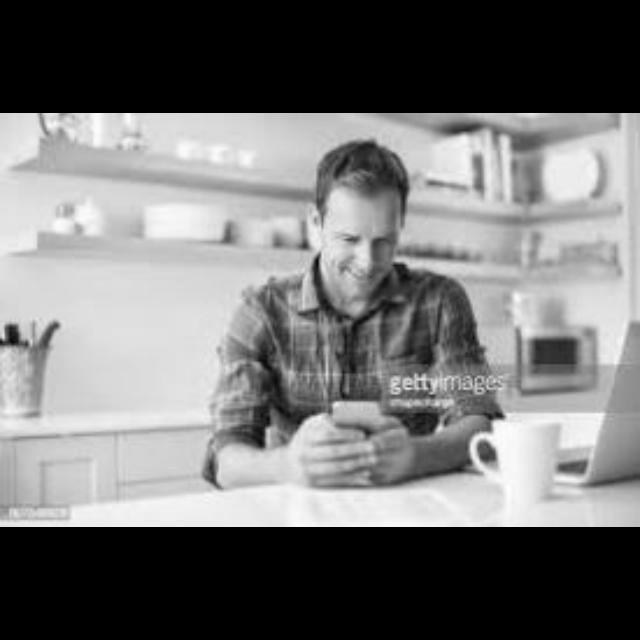fake: (310, 388, 404, 468)
